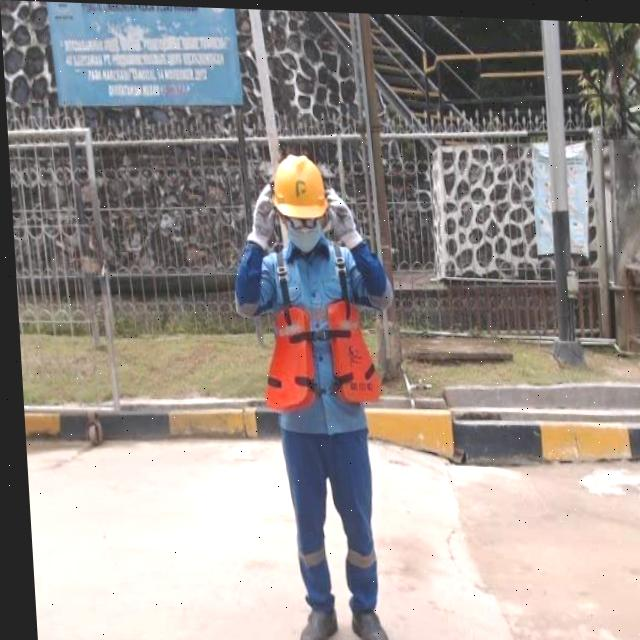Gloves: (241, 179, 276, 247), (320, 184, 354, 240)
Helmet: (266, 149, 327, 217)
Safety-Boot: (289, 604, 331, 640), (343, 606, 382, 640)
Safety-Vest: (251, 233, 376, 412)
